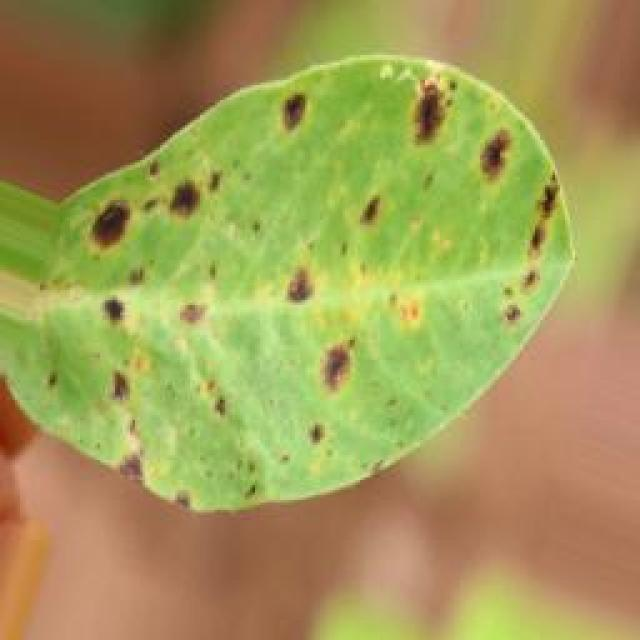Yellowish: (34, 37, 578, 520)
